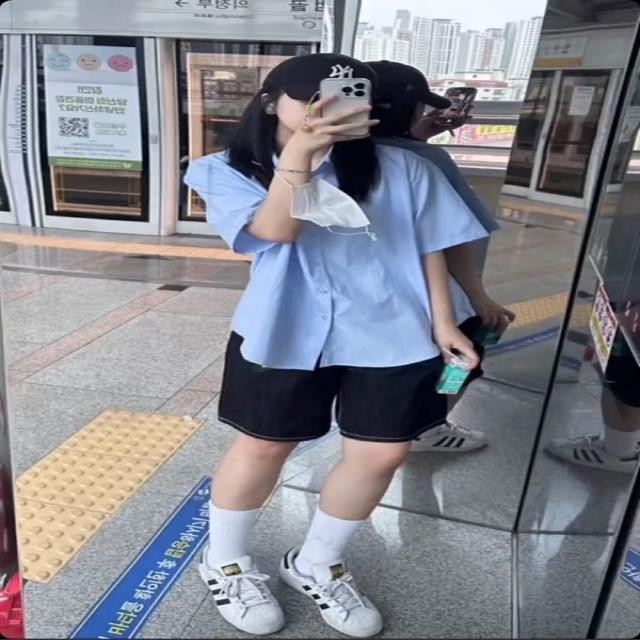shirt: (174, 140, 503, 369)
shortpants: (222, 324, 444, 445)
